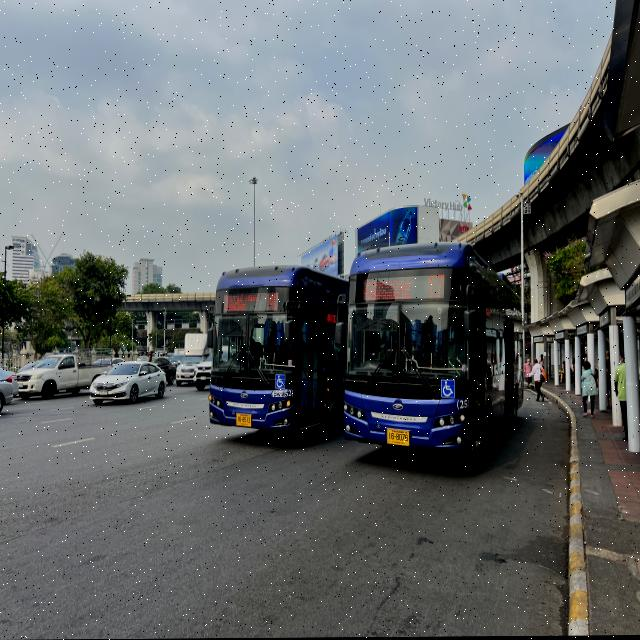Bus Line Number: (426, 273, 447, 300), (264, 292, 280, 312)
Bus Side Number: (442, 398, 470, 412), (270, 388, 295, 399)
Destination Sign: (360, 277, 418, 301), (222, 293, 263, 313)
TSB-Bus: (341, 245, 524, 464), (206, 266, 349, 444)
